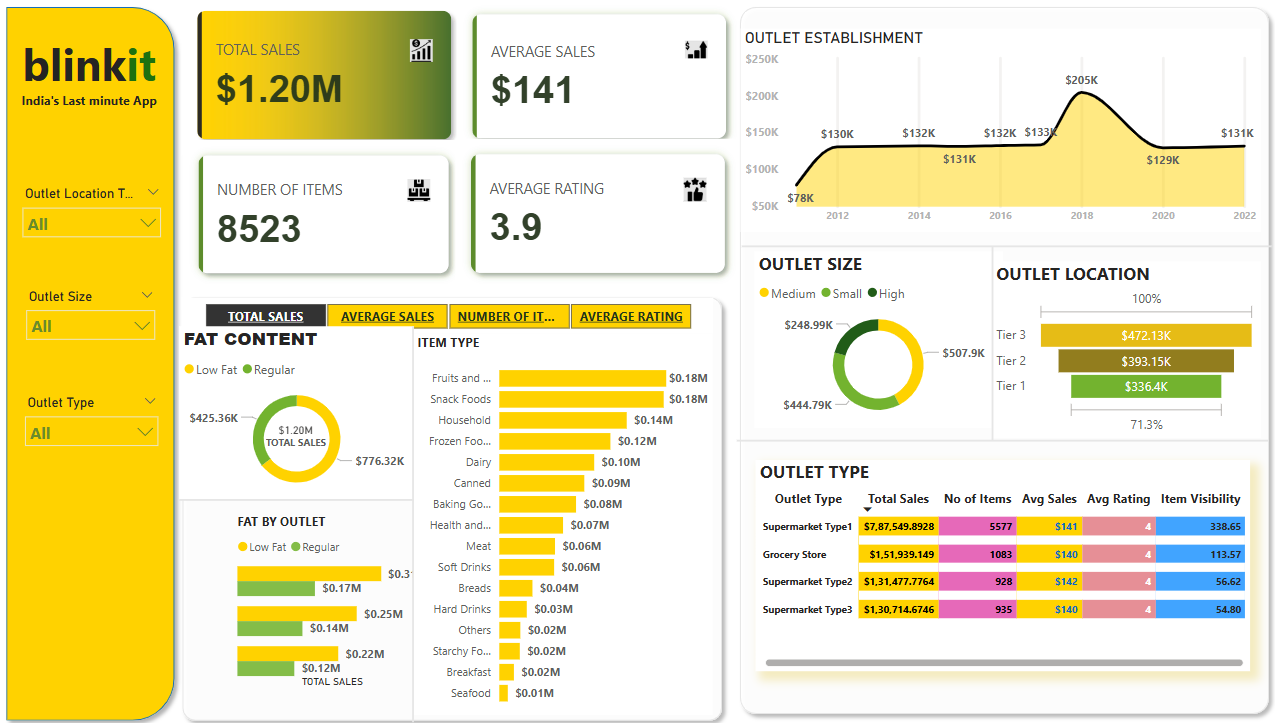

The page's visual inventory and layout, read from the dashboard file:
{"tool":"powerbi","page":{"name":"Page 1","canvas":[1400,800],"ordinal":0},"visuals":[{"type":"shape","box":[0,4.5,201.1,794],"z":0},{"type":"textbox","box":[13.5,36,171.1,100.6],"z":1000},{"type":"cardVisual","fields":{"Data":["BlinkIT Grocery Data.TOTAL SALES"]},"box":[199.6,0,310.7,174.1],"z":2000},{"type":"cardVisual","fields":{"Data":["BlinkIT Grocery Data.AVERAGE SALES"]},"box":[498.3,4.5,310.7,169.6],"z":3000},{"type":"cardVisual","fields":{"Data":["BlinkIT Grocery Data.NUMBER OF ITEMS"]},"box":[201.1,157.6,306.2,162.1],"z":4000},{"type":"cardVisual","fields":{"Data":["BlinkIT Grocery Data.AVERAGE RATING"]},"box":[496.8,156.1,310.7,163.6],"z":5000},{"type":"shape","box":[192.1,319.7,604.8,478.8],"z":6000},{"type":"slicer","title":"FAT CONTENT","fields":{"Values":["Metrics.Metrics"]},"box":[199.6,328.7,577.8,39],"z":7000},{"type":"donutChart","title":"FAT CONTENT","fields":{"Y":["BlinkIT Grocery Data.TOTAL SALES"],"Category":["BlinkIT Grocery Data.Item Fat Content"]},"box":[196.6,360.2,255.1,189.1],"z":8000},{"type":"cardVisual","fields":{"Data":["BlinkIT Grocery Data.TOTAL SALES"]},"box":[262.7,441.3,123.1,75],"z":9000},{"type":"clusteredBarChart","title":"FAT BY OUTLET","fields":{"Y":["BlinkIT Grocery Data.TOTAL SALES"],"Category":["BlinkIT Grocery Data.Outlet Location Type"],"Series":["BlinkIT Grocery Data.Item Fat Content"]},"box":[255.1,562.8,216.1,195.1],"z":10000},{"type":"shape","box":[657.4,492.3,12,282.2],"z":11000},{"type":"shape","box":[1007.1,312.2,313.7,15],"z":12000},{"type":"barChart","title":"ITEM TYPE","fields":{"Y":["BlinkIT Grocery Data.TOTAL SALES"],"Category":["BlinkIT Grocery Data.Item Type"]},"box":[451.8,367.7,325.7,414.2],"z":13000},{"type":"shape","box":[797,4.5,592.8,786.5],"z":14000},{"type":"lineChart","title":"OUTLET ESTABLISHMENT","fields":{"Y":["BlinkIT Grocery Data.TOTAL SALES"],"Category":["BlinkIT Grocery Data.Outlet Establishment Year"]},"box":[807.5,36,565.8,220.6],"z":15000},{"type":"shape","box":[196.6,535.8,255.1,27],"z":16000},{"type":"shape","box":[436.8,360.2,30,430.7],"z":17000},{"type":"donutChart","title":"OUTLET SIZE","fields":{"Y":["BlinkIT Grocery Data.TOTAL SALES"],"Category":["BlinkIT Grocery Data.Outlet Size"]},"box":[822.5,279.2,270.2,192.1],"z":18000},{"type":"funnel","title":"OUTLET LOCATION","fields":{"Category":["BlinkIT Grocery Data.Outlet Location Type"],"Y":["BlinkIT Grocery Data.TOTAL SALES"]},"box":[1080.6,289.7,292.7,192.1],"z":19000},{"type":"shape","box":[1071.6,273.2,18,211.6],"z":20000},{"type":"shape","box":[803,477.3,577.8,15],"z":21000},{"type":"tableEx","title":"OUTLET TYPE","fields":{"Values":["BlinkIT Grocery Data.Outlet Type","BlinkIT Grocery Data.TOTAL SALES","BlinkIT Grocery Data.NUMBER OF ITEMS","BlinkIT Grocery Data.AVERAGE SALES","BlinkIT Grocery Data.AVERAGE RATING","Sum(BlinkIT Grocery Data.Item Visibility)"]},"box":[824,505.8,537.3,229.6],"z":22000},{"type":"slicer","fields":{"Values":["BlinkIT Grocery Data.Outlet Location Type"]},"box":[16.5,202.6,171.1,70.5],"z":23000},{"type":"slicer","fields":{"Values":["BlinkIT Grocery Data.Outlet Size"]},"box":[21,313.7,160.6,88.6],"z":25000},{"type":"slicer","fields":{"Values":["BlinkIT Grocery Data.Outlet Type"]},"box":[19.5,429.2,165.1,63],"z":26000},{"type":"shape","box":[809,256.6,576.3,33],"z":27000}]}

Visuals, with their boxes in screenshot pixels (x1, y1, x2, y2), scaled from the page's 1400x800 canvas onto the 1275x723 screenshot:
shape: [left=0, top=4, right=183, bottom=722]
textbox: [left=12, top=33, right=168, bottom=123]
cardVisual - BlinkIT Grocery Data.TOTAL SALES: [left=182, top=0, right=465, bottom=157]
cardVisual - BlinkIT Grocery Data.AVERAGE SALES: [left=454, top=4, right=737, bottom=157]
cardVisual - BlinkIT Grocery Data.NUMBER OF ITEMS: [left=183, top=142, right=462, bottom=289]
cardVisual - BlinkIT Grocery Data.AVERAGE RATING: [left=452, top=141, right=735, bottom=289]
shape: [left=175, top=289, right=726, bottom=722]
"FAT CONTENT" slicer: [left=182, top=297, right=708, bottom=332]
"FAT CONTENT" donutChart: [left=179, top=326, right=411, bottom=496]
cardVisual - BlinkIT Grocery Data.TOTAL SALES: [left=239, top=399, right=351, bottom=467]
"FAT BY OUTLET" clusteredBarChart: [left=232, top=509, right=429, bottom=685]
shape: [left=599, top=445, right=610, bottom=700]
shape: [left=917, top=282, right=1203, bottom=296]
"ITEM TYPE" barChart: [left=411, top=332, right=708, bottom=707]
shape: [left=726, top=4, right=1266, bottom=715]
"OUTLET ESTABLISHMENT" lineChart: [left=735, top=33, right=1251, bottom=232]
shape: [left=179, top=484, right=411, bottom=509]
shape: [left=398, top=326, right=425, bottom=715]
"OUTLET SIZE" donutChart: [left=749, top=252, right=995, bottom=426]
"OUTLET LOCATION" funnel: [left=984, top=262, right=1251, bottom=435]
shape: [left=976, top=247, right=992, bottom=438]
shape: [left=731, top=431, right=1258, bottom=445]
"OUTLET TYPE" tableEx: [left=750, top=457, right=1240, bottom=665]
slicer - BlinkIT Grocery Data.Outlet Location Type: [left=15, top=183, right=171, bottom=247]
slicer - BlinkIT Grocery Data.Outlet Size: [left=19, top=284, right=165, bottom=364]
slicer - BlinkIT Grocery Data.Outlet Type: [left=18, top=388, right=168, bottom=445]
shape: [left=737, top=232, right=1262, bottom=262]
